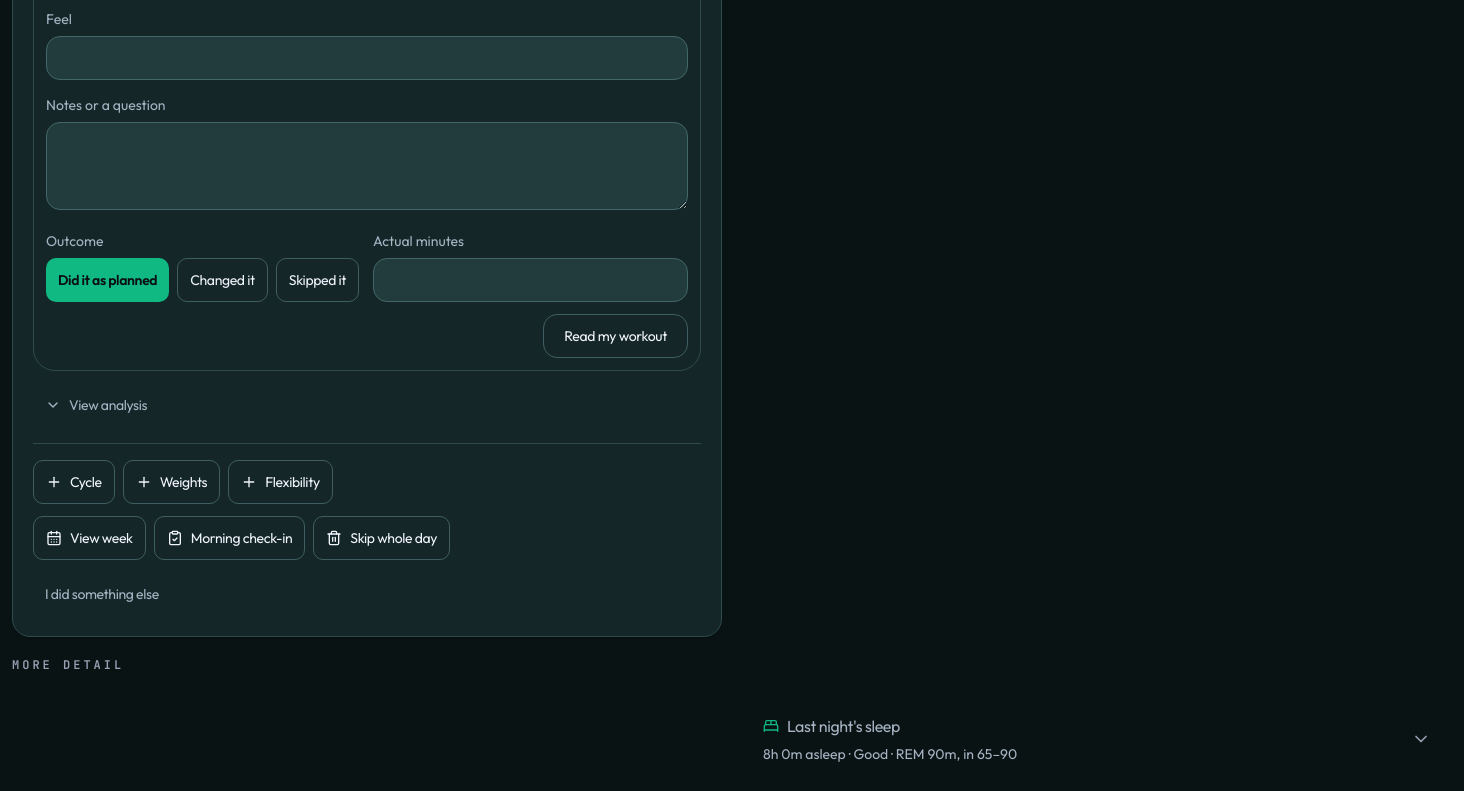
Test: DashboardPage › shows a completed ride as a read on its Today row, not the ride controls (Batch 60)
The image size is (1464, 791).
(page scrolled)
Expected: the element named "Outcome" is shown, [46,258,361,302]
Expected: the text "refuel within 20 minutes" is not shown
Click the button "View analysis": (96, 405) [33,383,159,427]
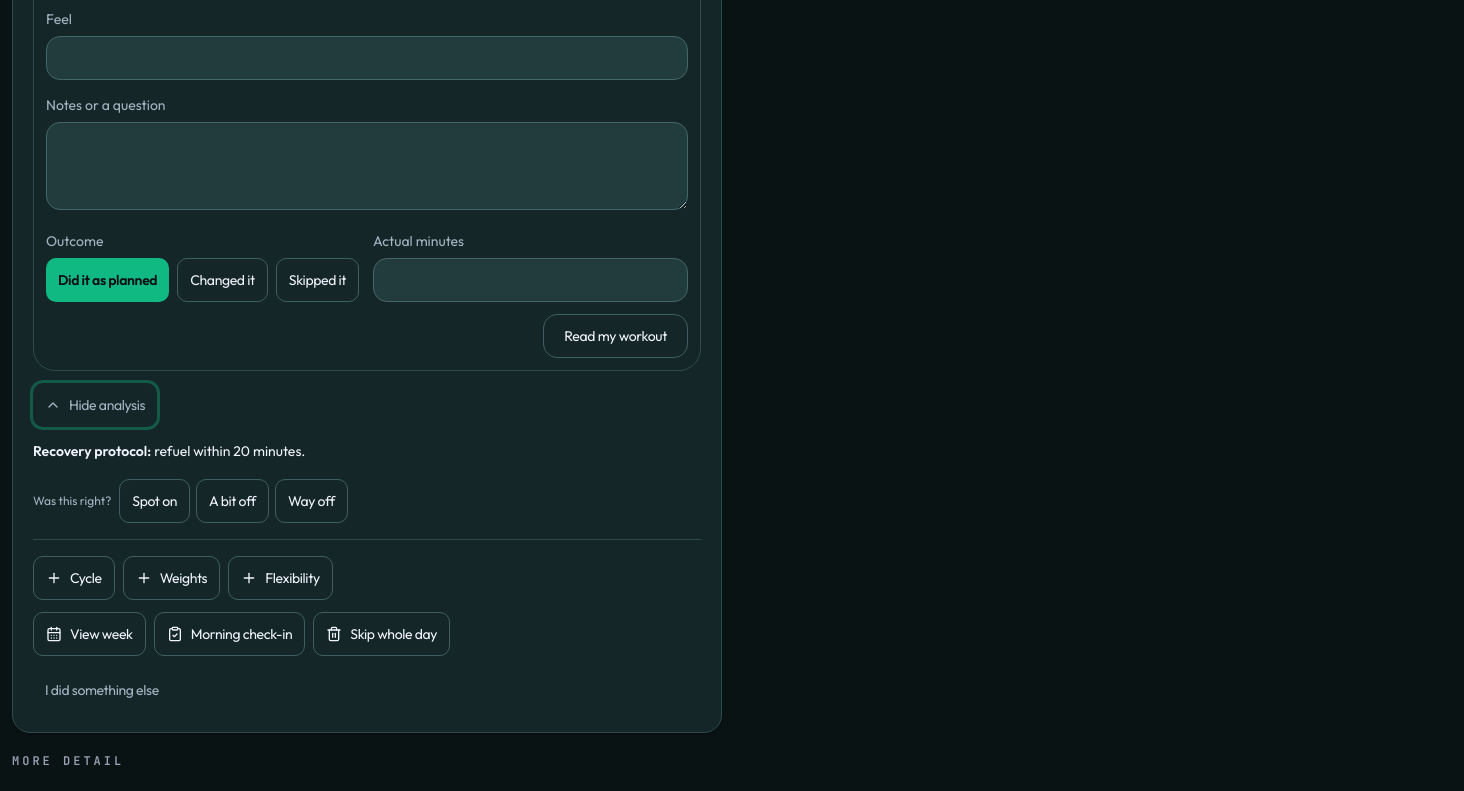
Expected: the text "Recovery protocol: refuel within 20 minutes." is shown, [33,442,305,460]
